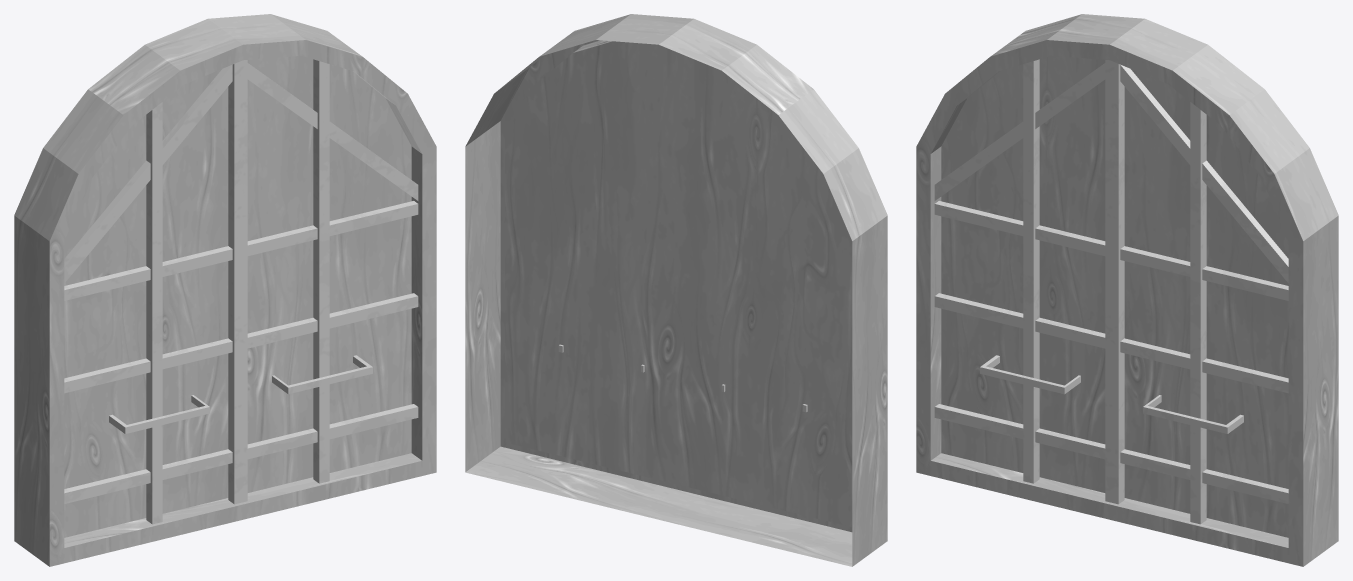
File: StationDoor_A_001.fbx
3 renders of one model, left to right at view 1: azimuth 30°, elevation 25°; view 2: azimuth 150°, elevation 25°; view 3: azimuth 330°, elevation 25°, orthographic.
Visible parts, largest first — view 1: StationDoor_A_001; view 2: StationDoor_A_001; view 3: StationDoor_A_001.
Part boxes in pixels (x1,y1,x2,y2): StationDoor_A_001: (14, 14, 436, 566); StationDoor_A_001: (465, 14, 887, 566); StationDoor_A_001: (916, 14, 1338, 566).
Bounding box in the file's own units: 259 × 304 × 48.01.
4 materials, 4 textured.
